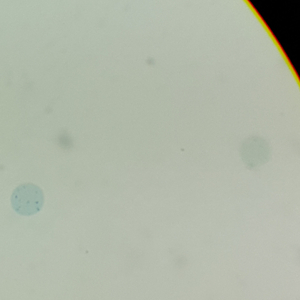erythrocyte: (239, 133, 272, 173)
punctate reticulocyte: (9, 181, 45, 217)
